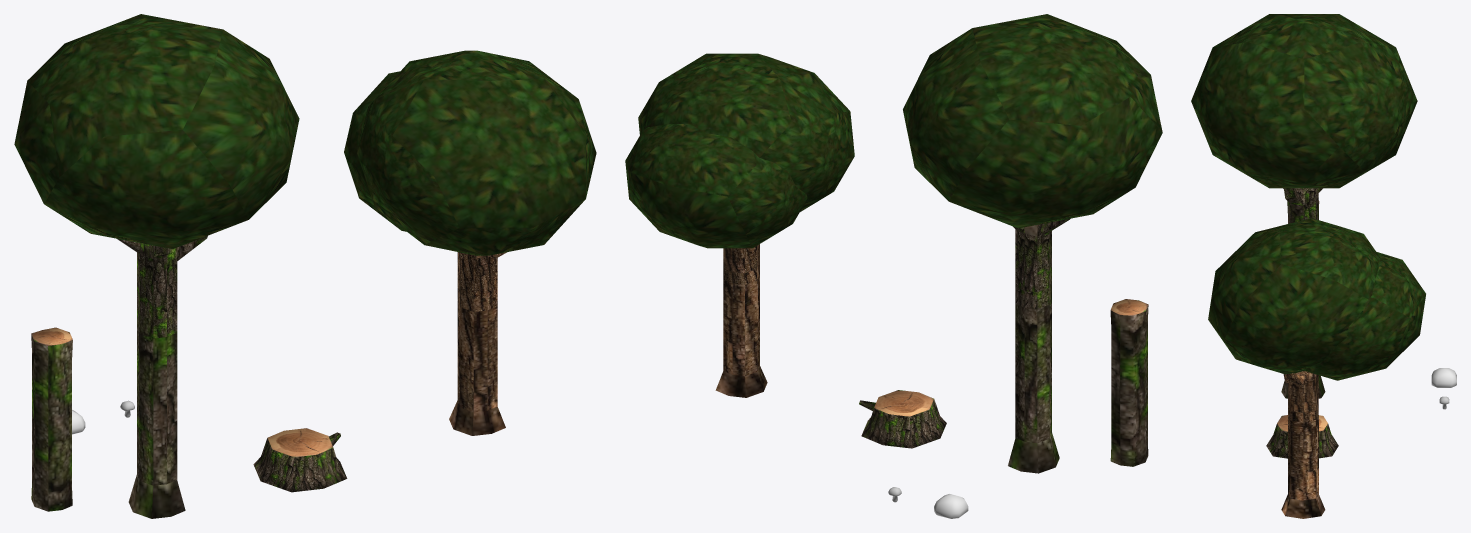
Rendered from Florest Props.fbx.
3 views of the same model, side by side, from view 1: azimuth 30°, elevation 25°; view 2: azimuth 150°, elevation 25°; view 3: azimuth 270°, elevation 25° (orthographic). The views are drawn at different scales.
Parts seen in each view (by area): view 1: Arvore_1, Icosphere.002, Cube, Cube.004, Tronco, Tora; view 2: Arvore_1, Icosphere.002, Cube, Tronco, Cube.004, Tora, Cube.001; view 3: Arvore_1, Icosphere.002, Cube.004, Cube, Tora, Cube.001.
Boxes of the visible parts, x1,y1,x2,y2 form: Arvore_1: (14,14,299,248); Icosphere.002: (344,50,596,255); Cube: (117,236,207,518); Cube.004: (449,252,506,435); Tronco: (31,327,72,511); Tora: (253,428,347,492); Arvore_1: (903,14,1162,228); Icosphere.002: (625,53,854,248); Cube: (1008,218,1070,473); Tronco: (1110,299,1148,466); Cube.004: (715,244,767,397); Tora: (859,390,946,448); Cube.001: (934,494,968,518); Arvore_1: (1191,14,1417,188); Icosphere.002: (1208,218,1425,380); Cube.004: (1281,371,1325,518); Cube: (1281,188,1325,398); Tora: (1266,415,1338,458); Cube.001: (1431,368,1456,387).
Bounding box in the file's own units: 3846 × 3222 × 2102.
